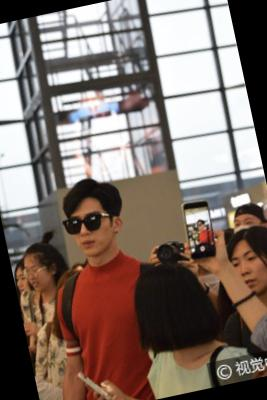without_mask: (67, 205, 119, 261), (229, 245, 267, 298), (23, 259, 53, 293), (14, 272, 33, 299)
